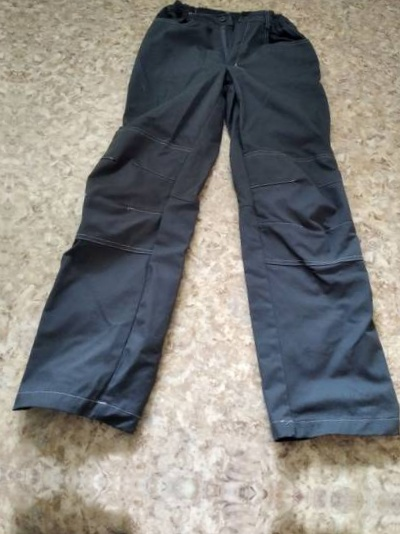Pants: (0, 0, 400, 471), (0, 507, 384, 534), (0, 0, 16, 440)
